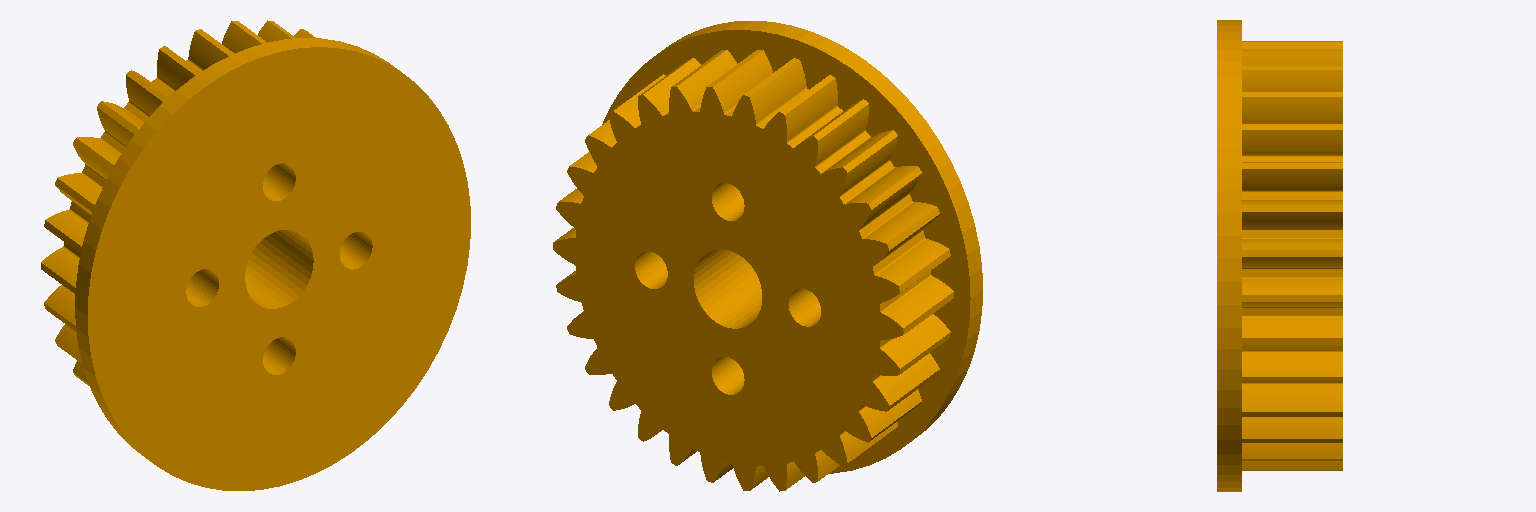
The robot description file, URDF, robot "gear_3_L0.73_T0.79":
<?xml version="1.0" encoding="utf-8"?>
<robot name="gear_3_L0.73_T0.79">
  <link name="gear_3_L0.73_T0.79Link">
    <contact>
      <lateral_friction value="1"/>
    </contact>
    <inertial>
      <origin rpy="0 0 0" xyz="0 0 0"/>
      <mass value="0.0"/>
      <inertia ixx="0" ixy="0" ixz="0" iyy="0" iyz="0" izz="0"/>
    </inertial>
    <visual>
      <origin rpy="0 0 0" xyz="0 0 0"/>
      <geometry>
        <mesh filename="generated_stl/gear/gear_3/gear_3_L0.73_T0.79/gear_3_L0.73_T0.79.stl" scale="0.01 0.01 0.01"/>
      </geometry>
    </visual>
    <collision>
      <origin rpy="0 0 0" xyz="0 0 0"/>
      <geometry>
        <mesh filename="generated_stl/gear/gear_3/gear_3_L0.73_T0.79/gear_3_L0.73_T0.79.stl" scale="0.01 0.01 0.01"/>
      </geometry>
    </collision>
  </link>
</robot>

--- Render facts (derived) ---
The picture shows the robot from 3 angles, left to right: view 1: azimuth 30°, elevation 25°; view 2: azimuth 150°, elevation 25°; view 3: azimuth 270°, elevation 25°; orthographic projection.
Model gear_3_L0.73_T0.79 with 1 links and 0 joints (none), rooted at gear_3_L0.73_T0.79Link, posed every joint at zero.
Links seen in each view (by area): view 1: gear_3_L0.73_T0.79Link; view 2: gear_3_L0.73_T0.79Link; view 3: gear_3_L0.73_T0.79Link.
Boxes of the visible links, x1=… form: gear_3_L0.73_T0.79Link: x1=41, y1=20, x2=470, y2=490; gear_3_L0.73_T0.79Link: x1=553, y1=21, x2=982, y2=491; gear_3_L0.73_T0.79Link: x1=1217, y1=20, x2=1342, y2=491.
Size in the robot's own frame: 0.0363 by 0.0104 by 0.0393 metres.
1 mesh visuals loaded from 1 distinct referenced files (1 binary STL).